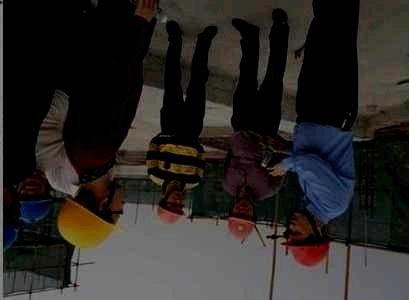helmet: (58, 185, 126, 250), (280, 212, 332, 269), (16, 177, 54, 225), (1, 192, 24, 253), (228, 200, 258, 242), (158, 192, 187, 227)
